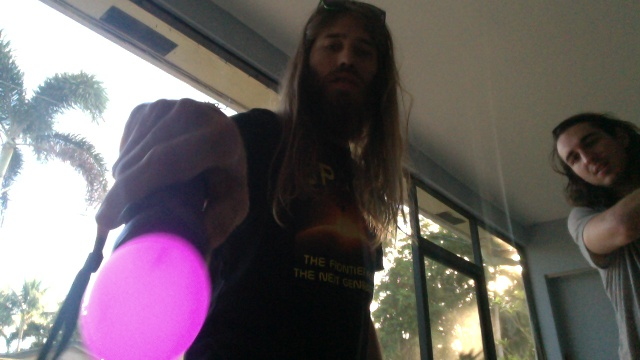wand: (80, 234, 211, 360)
